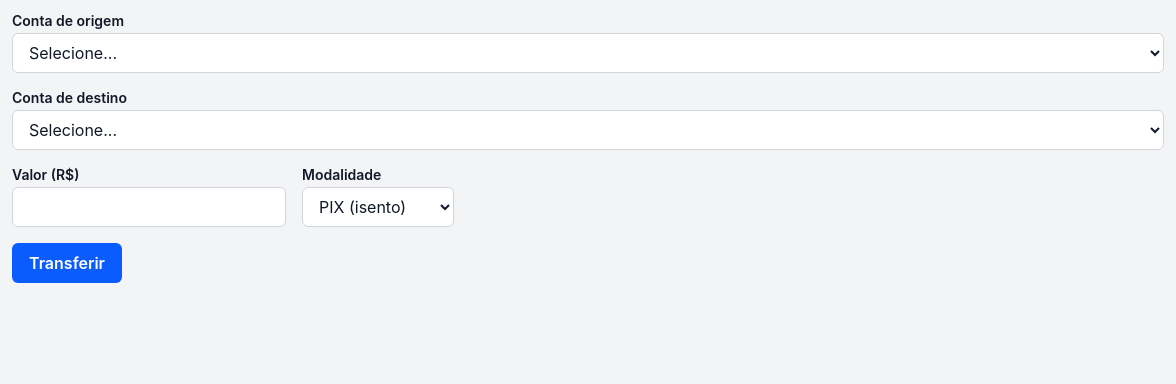
Test: TransferForm › exibe o motivo quando o antifraude recusa
Select "Ana — R$ 1.000,00" in the dropdown labelled "Conta de origem". click: (588, 53)
box: [12, 33, 1164, 73]
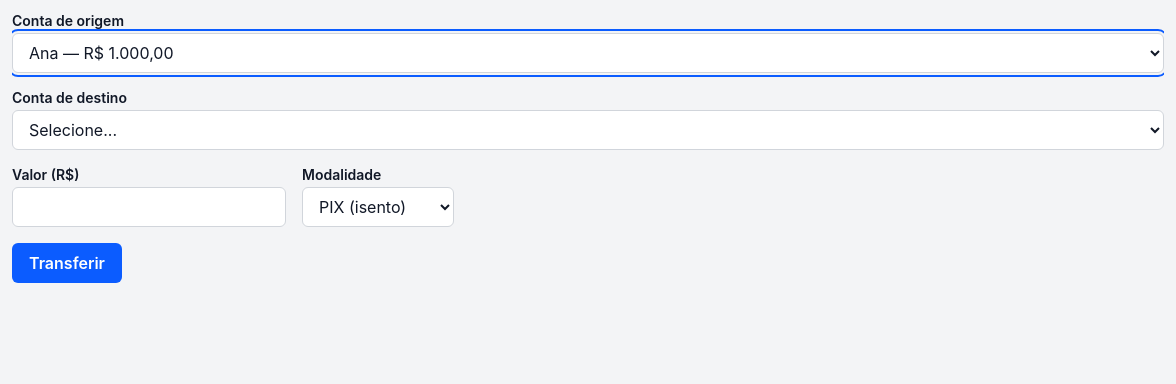
Select "Bruno — R$ 50,00" in the dropdown labelled "Conta de destino". click: (588, 130)
box: [12, 110, 1164, 150]
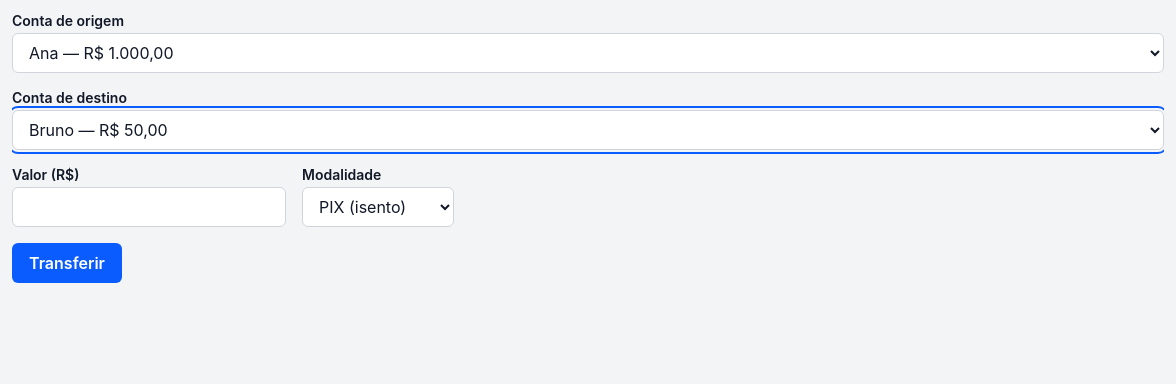
Type "50000" into the field labelled "Valor (R$)". click: (149, 207)
box: [12, 187, 286, 227]
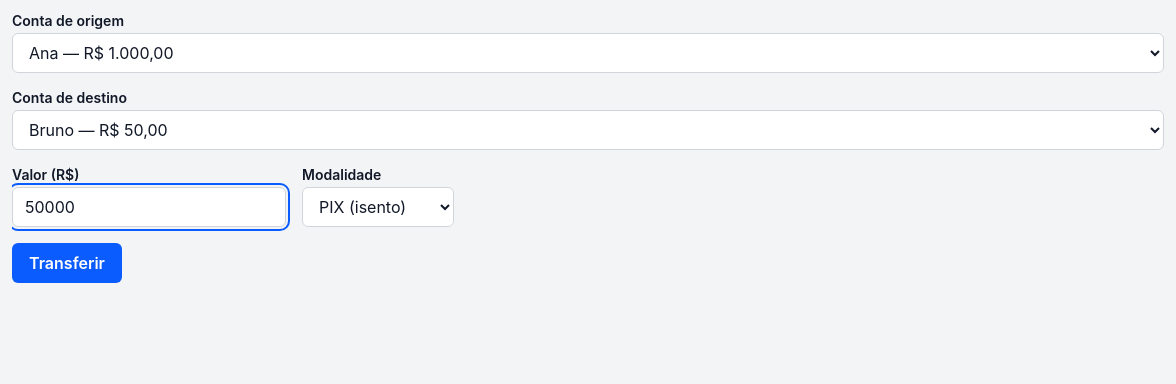
Click the button "Transferir". click: (67, 263)
box: [12, 243, 122, 283]
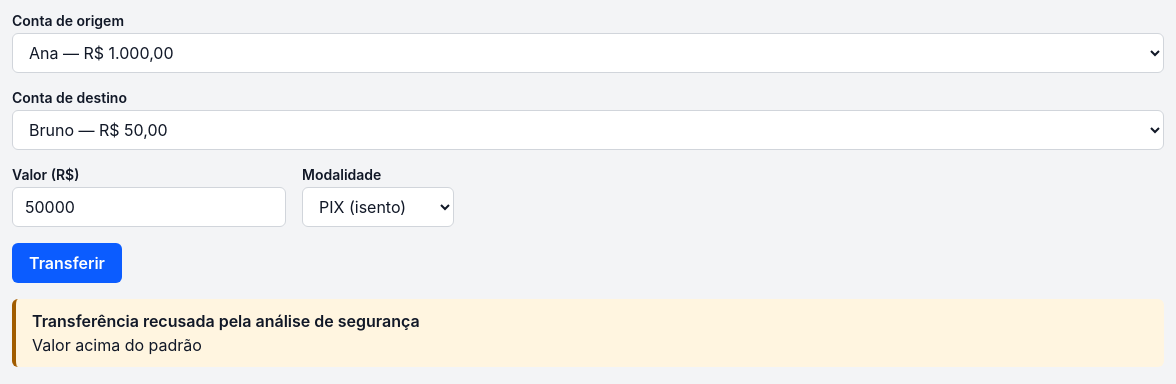
expect the text "Valor acima do padrão" is shown: met, box [32, 335, 202, 355]
